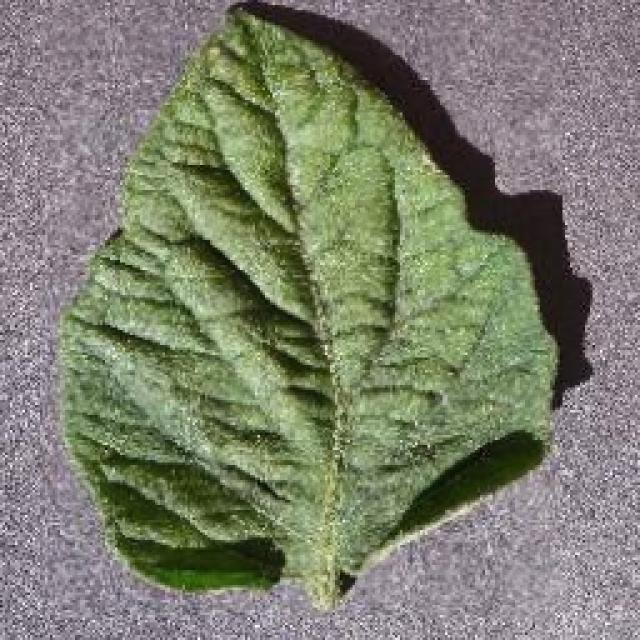Healthy: (40, 0, 562, 618)
